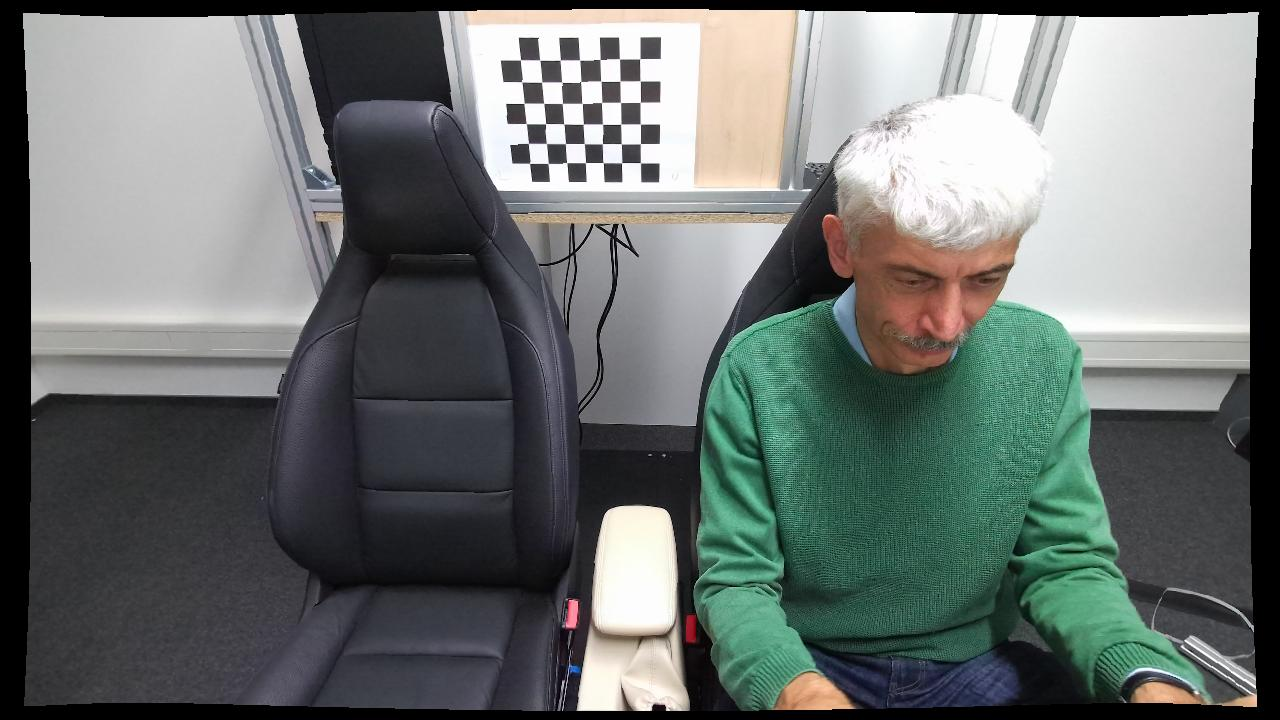SafeDriving: (695, 97, 1182, 717)
